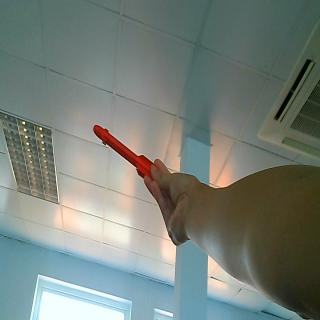Rocket: (92, 122, 151, 180)
